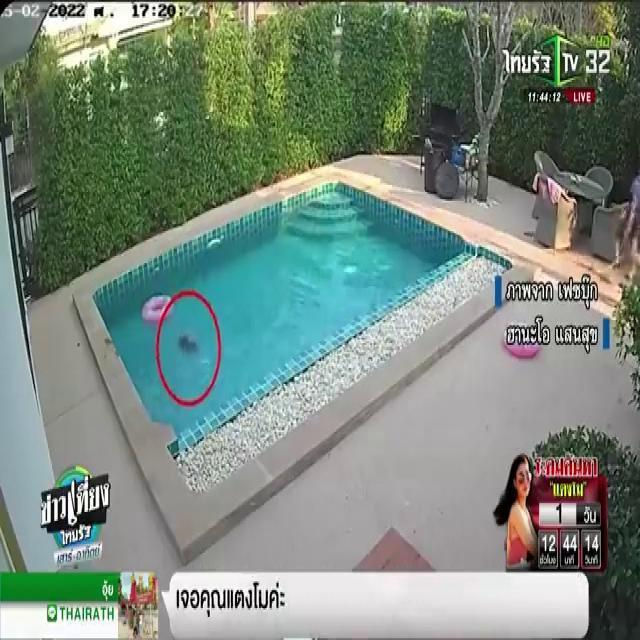Out of Water: (169, 321, 207, 373)
